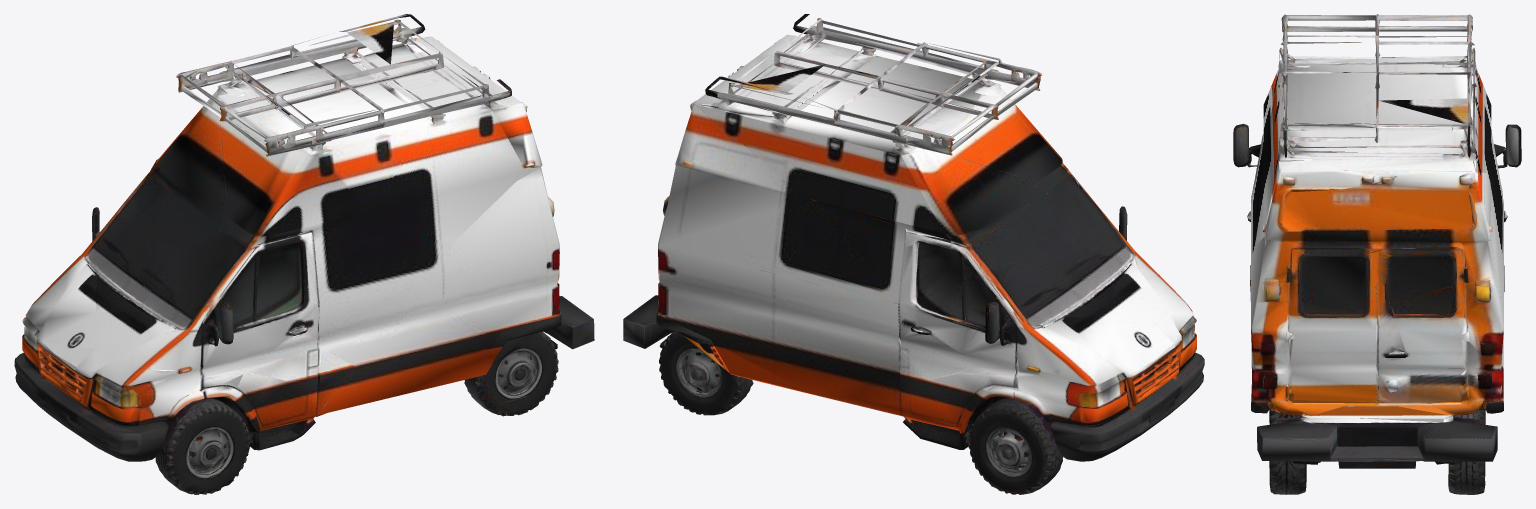
Rendered from utility_van_01.glb.
3 renders of one model, left to right at view 1: azimuth 30°, elevation 25°; view 2: azimuth 150°, elevation 25°; view 3: azimuth 270°, elevation 25°, orthographic. The views are drawn at different scales.
Visible parts, largest first — view 1: output_unwrapped; view 2: output_unwrapped; view 3: output_unwrapped.
Part boxes in pixels (x1,y1,x2,y2): output_unwrapped: (14,14,594,494); output_unwrapped: (623,14,1204,494); output_unwrapped: (1233,14,1521,494).
Size of the model in its own units: 1.9 by 1.26 by 0.9323.
1 material, 1 textured.
